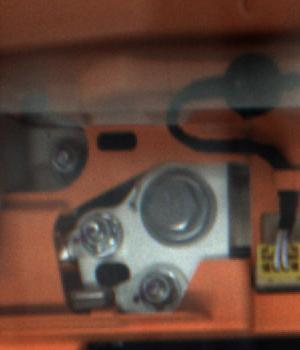nut_b: (135, 165, 224, 252)
